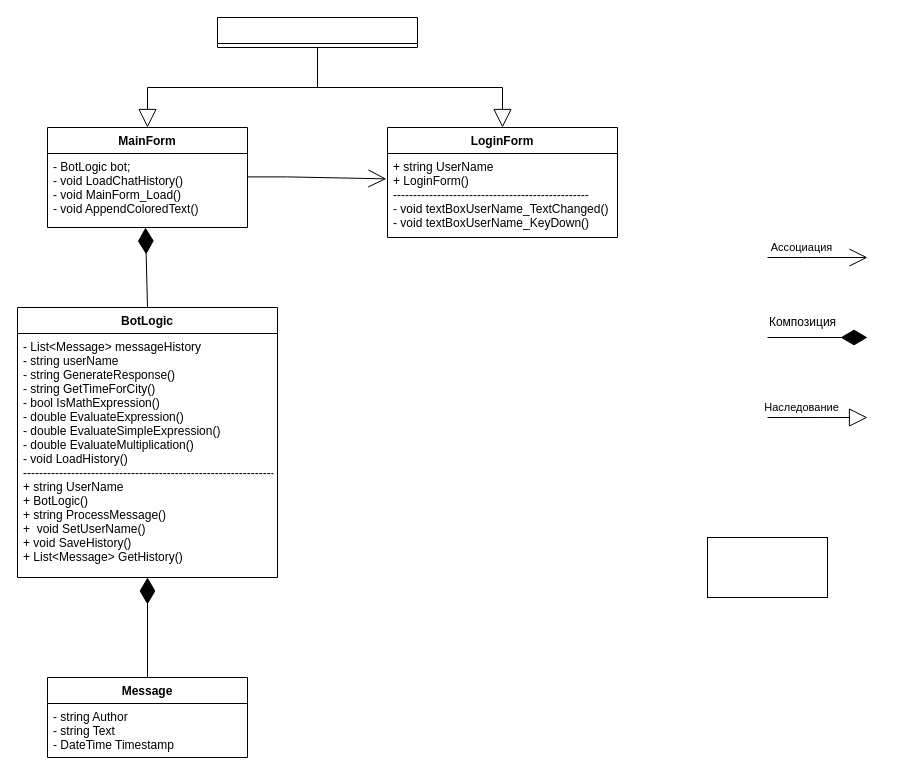
Some shapes in this 911 by 778 pixel diagram are drawn without their labels. The shapes that lost their labels are listed below. From the top down, each one's centre as x and y in pixels, then its label:
the point at 317,32: Form
the point at 767,567: ком. Добавить агрегацию
